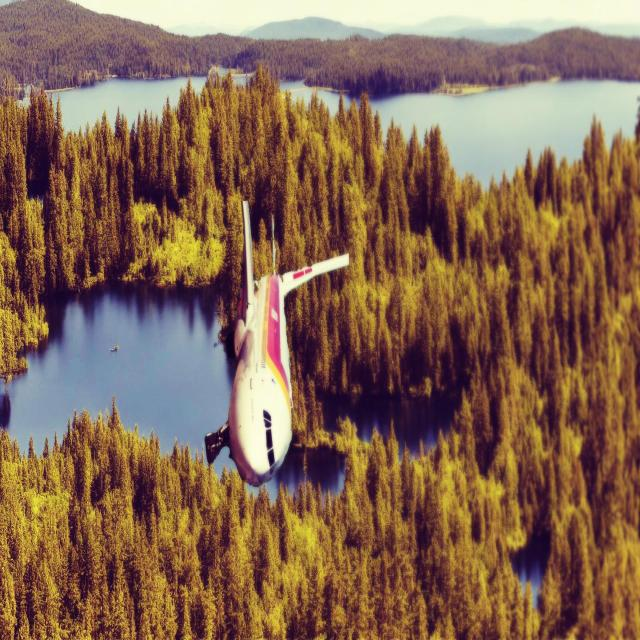airplane: (204, 198, 349, 486)
